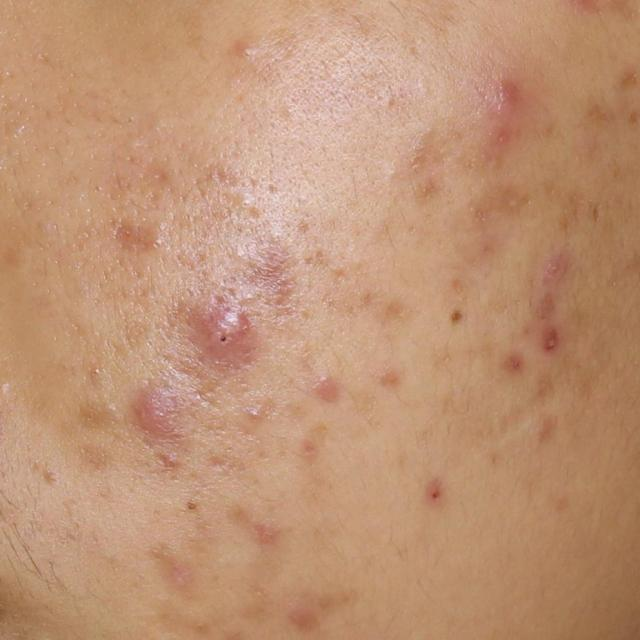blackhead: (189, 504, 195, 510), (453, 314, 459, 320)
nodule: (200, 308, 252, 361), (136, 388, 178, 436), (487, 81, 520, 119)
